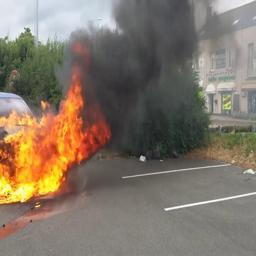fire: (2, 64, 112, 204)
